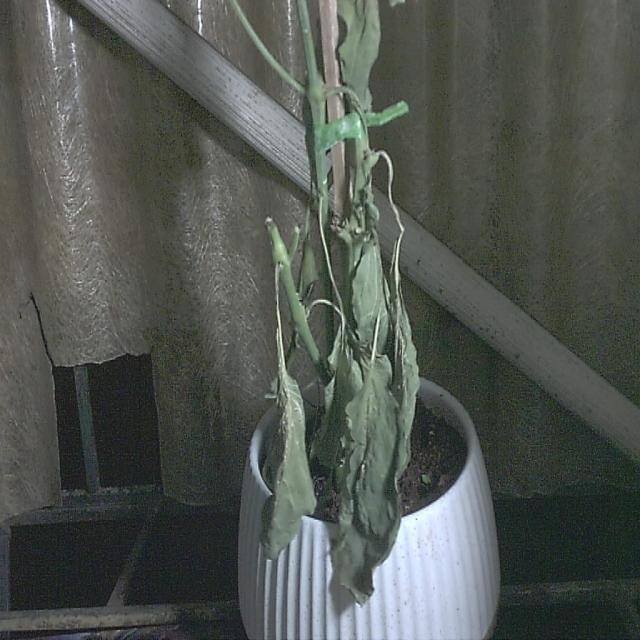Leaf: (331, 373, 407, 608), (259, 376, 318, 562)
